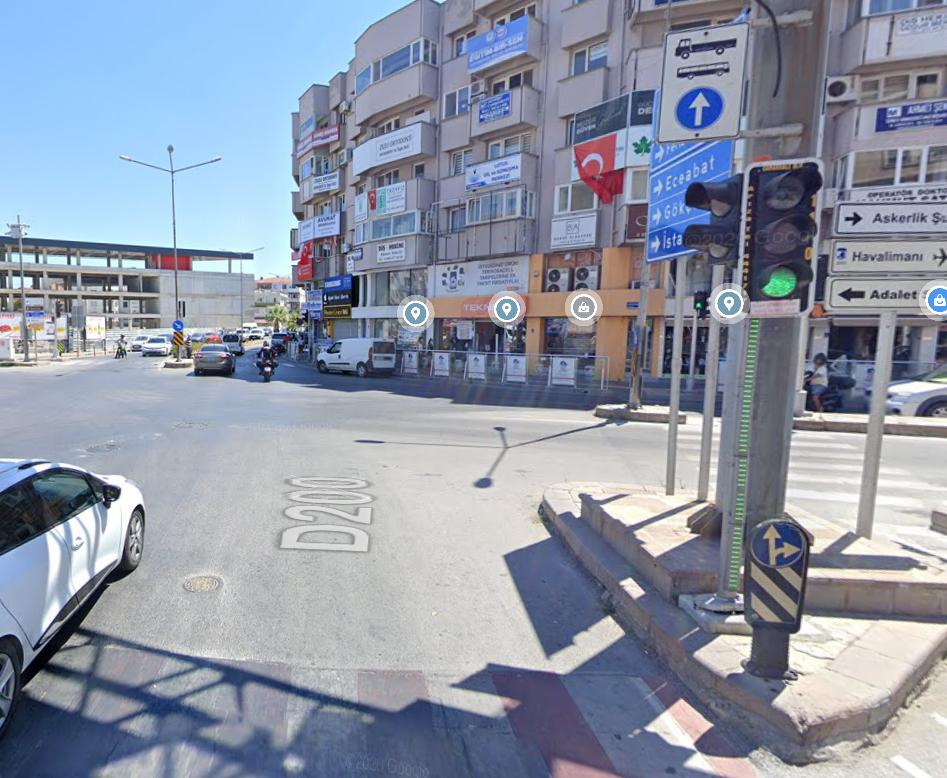greenlight: (744, 166, 810, 312)
